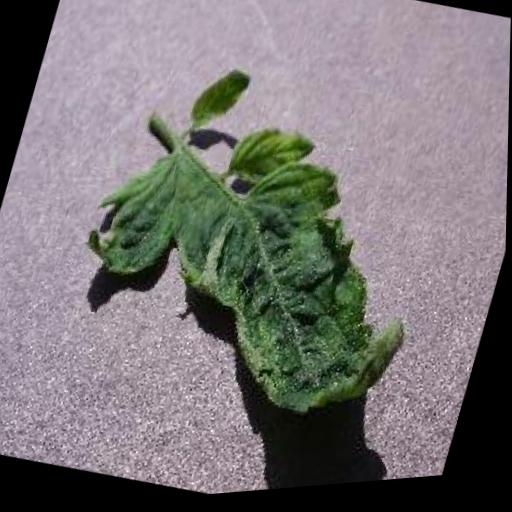Mosaic Virus: (49, 31, 475, 462)
